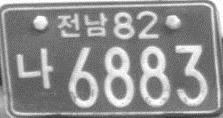2: (135, 9, 160, 40)
3: (174, 43, 208, 107)
6: (67, 45, 99, 108)
8: (137, 44, 172, 107), (101, 45, 135, 109), (112, 11, 134, 40)
나: (14, 46, 54, 90)
전남_O: (57, 11, 108, 40)
